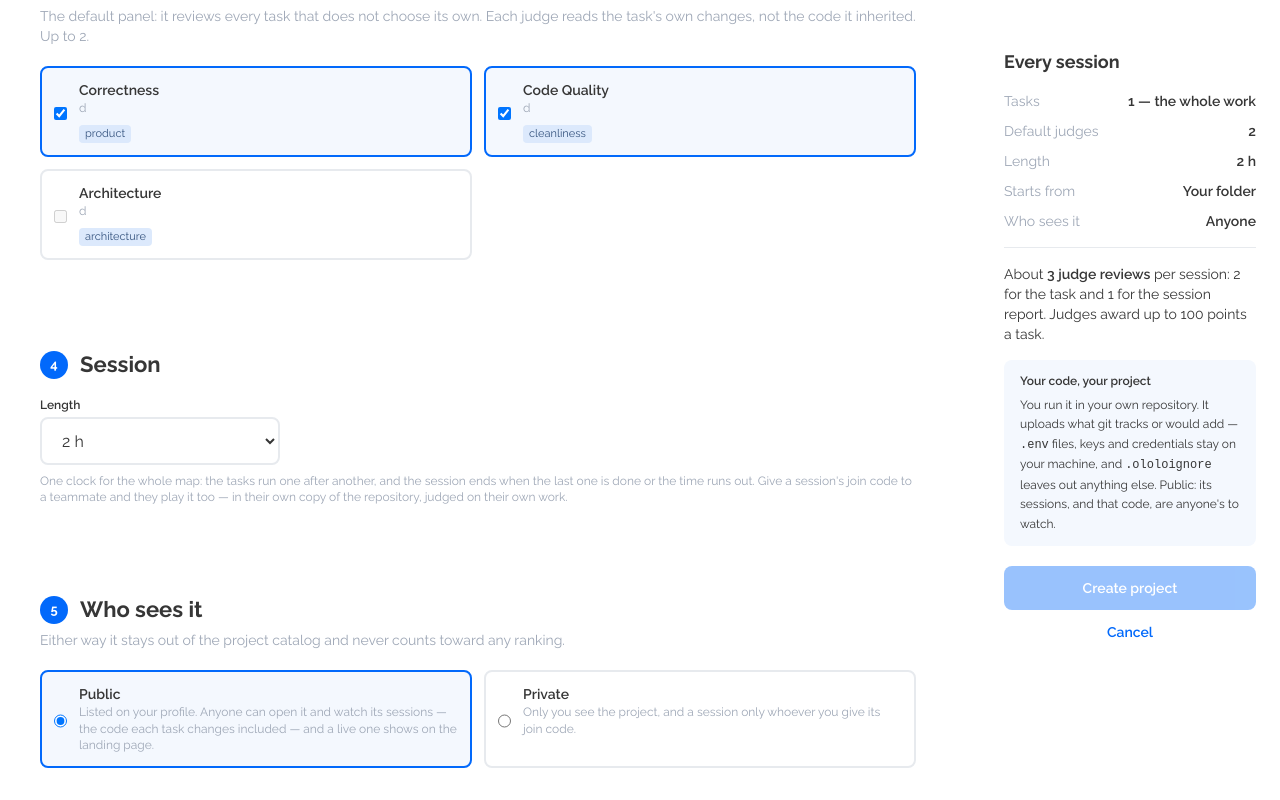
Test case: PersonalProjectForm › is public unless kept private, and says what that means
(page scrolled)
Expected: the text with test id "pp-visibility-summary" reads "Anyone", 1206,213 -> 1256,229
What coordinates should you click on to do the following:
click the radio button with test id "pp-private"
I would click on:
 (504, 721)
Its box is 498,688 -> 511,754.
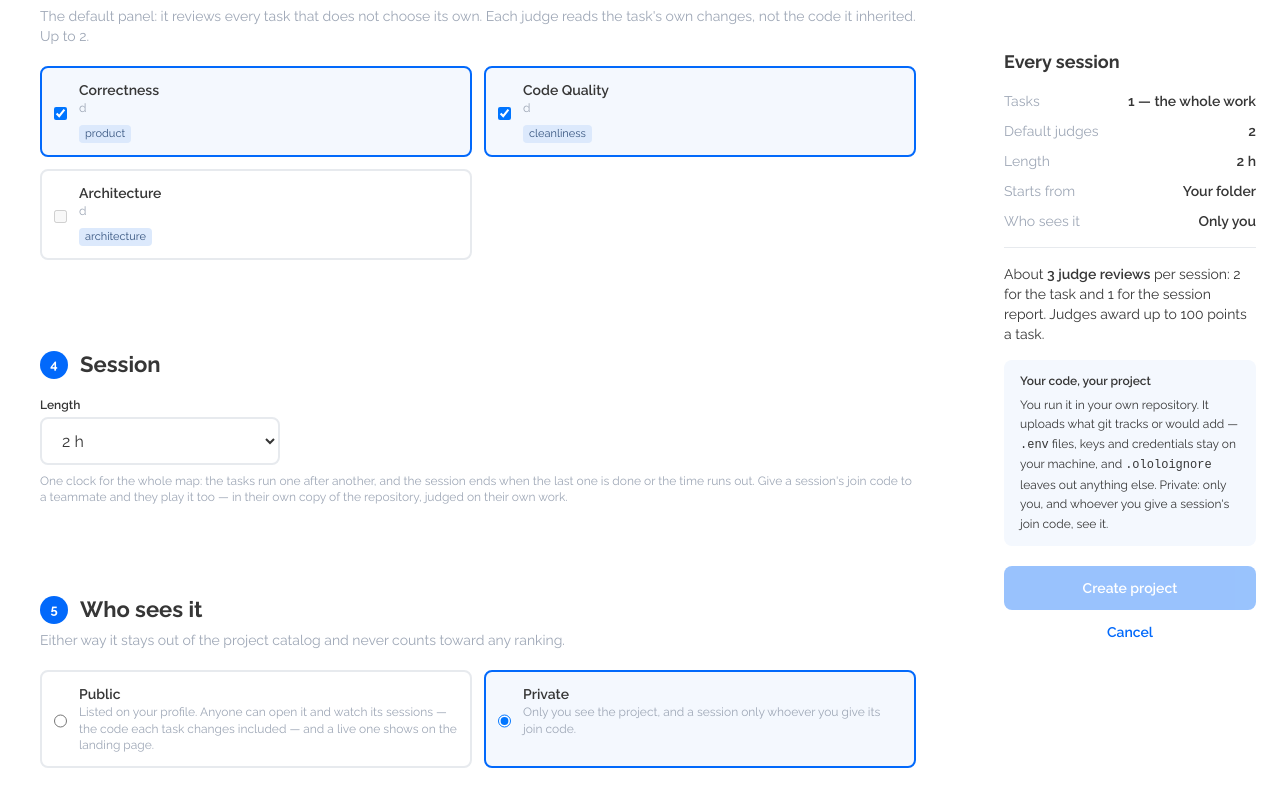
Expected: the text with test id "pp-visibility-summary" reads "Only you", 1198,213 -> 1256,229
